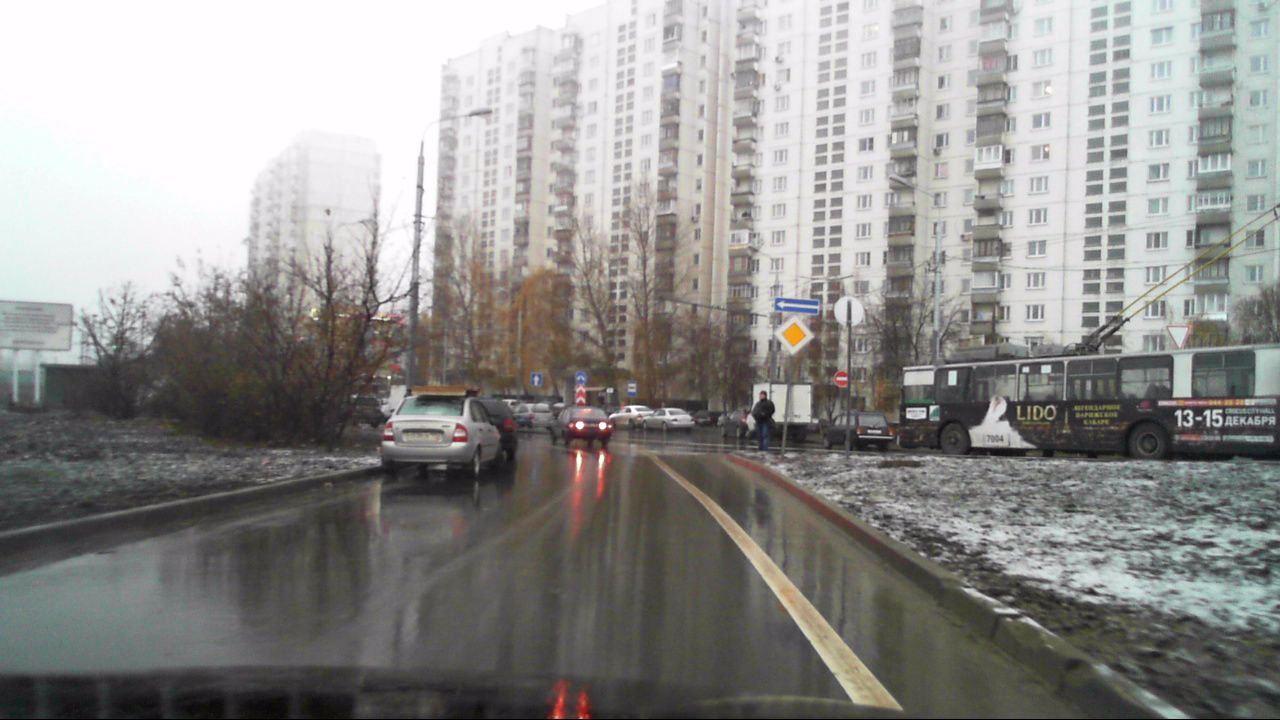One-Way Traffic: (775, 298, 820, 314)
